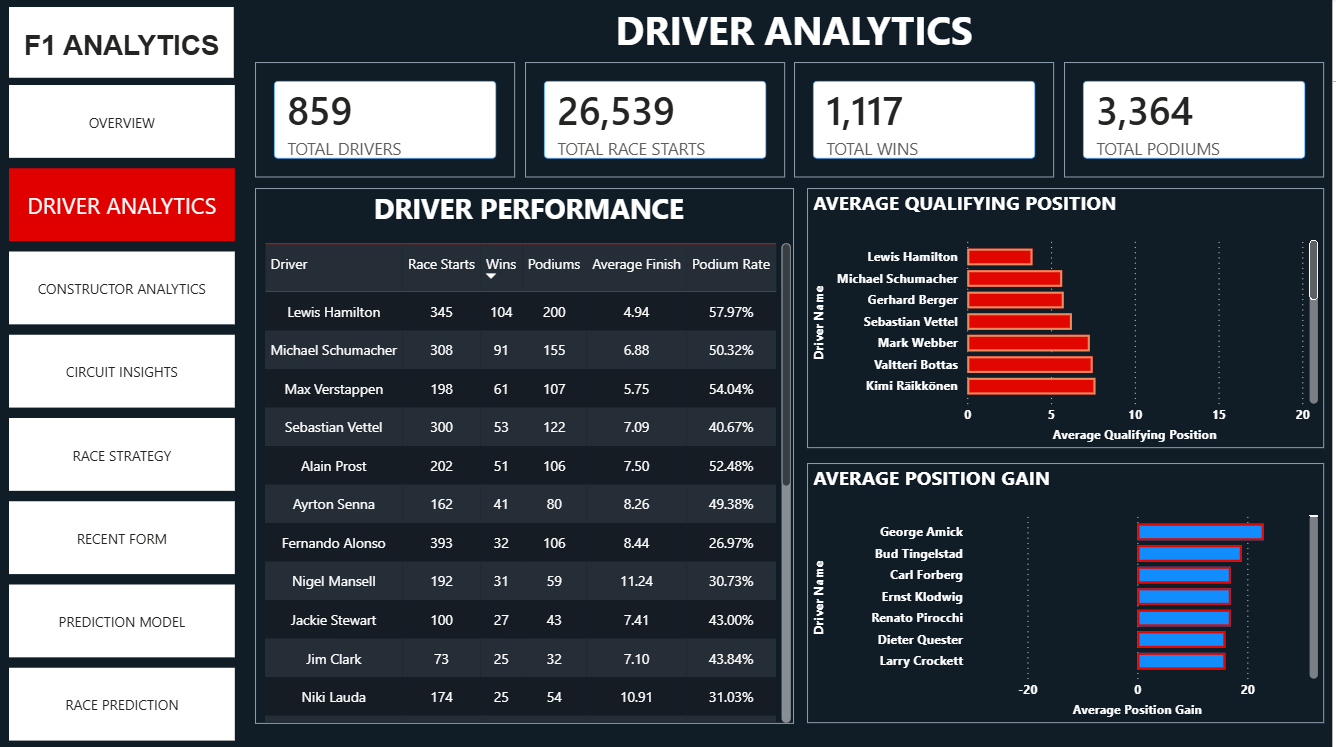

The page's visual inventory and layout, read from the dashboard file:
{"tool":"powerbi","page":{"name":"DRIVER ANALYTICS","canvas":[1280,720],"ordinal":1},"visuals":[{"type":"tableEx","title":"DRIVER PERFORMANCE","fields":{"Values":["drivers_clean.driverName","results_clean.Total Race Starts","results_clean.Total Wins","results_clean.Total Podiums","results_clean.Average Finish Position","results_clean.Podium Rate"]},"box":[245,182.6,518,514.5],"z":0},{"type":"barChart","title":"AVERAGE QUALIFYING POSITION","fields":{"Y":["qualifying_clean.Average Qualifying Position"],"Category":["drivers_clean.driverName"]},"box":[775.3,182.6,497,250.2],"z":1000},{"type":"clusteredBarChart","title":"AVERAGE POSITION GAIN","fields":{"Category":["drivers_clean.driverName"],"Y":["results_clean.Average Position Gain"]},"box":[775.3,446.9,497,250.2],"z":2000},{"type":"textbox","box":[244.7,0,1036,68.3],"z":3000},{"type":"pageNavigator","title":"              F1 ANALYTICS","box":[8.2,83.6,217.3,635.5],"z":4000},{"type":"textbox","box":[8.2,8.2,216.4,68.2],"z":5000},{"type":"cardVisual","fields":{"Data":["Dim Season.Tooltip Wins"]},"box":[763.3,61.5,250,111.5],"z":9000},{"type":"cardVisual","fields":{"Data":["Dim Season.Tooltip Circuit Race Starts"]},"box":[504.2,61.5,250,111.5],"z":10000},{"type":"cardVisual","fields":{"Data":["drivers_clean.Total Drivers"]},"box":[245,61.5,250,111.5],"z":11000},{"type":"cardVisual","fields":{"Data":["Dim Season.Tooltip Podiums"]},"box":[1022.5,61.5,250,111.5],"z":12000}]}

Visuals, with their boxes in screenshot pixels (x1, y1, x2, y2), scaled from the page's 1280x720 canvas onto the 1336x747 screenshot:
"DRIVER PERFORMANCE" tableEx: locate(256, 189, 796, 723)
"AVERAGE QUALIFYING POSITION" barChart: locate(809, 189, 1328, 449)
"AVERAGE POSITION GAIN" clusteredBarChart: locate(809, 464, 1328, 723)
textbox: locate(255, 0, 1335, 71)
"              F1 ANALYTICS" pageNavigator: locate(9, 87, 235, 746)
textbox: locate(9, 9, 234, 79)
cardVisual - Dim Season.Tooltip Wins: locate(797, 64, 1058, 179)
cardVisual - Dim Season.Tooltip Circuit Race Starts: locate(526, 64, 787, 179)
cardVisual - drivers_clean.Total Drivers: locate(256, 64, 517, 179)
cardVisual - Dim Season.Tooltip Podiums: locate(1067, 64, 1328, 179)
